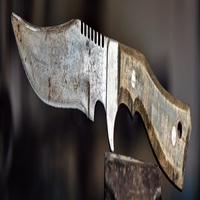knife: (9, 11, 193, 164)
